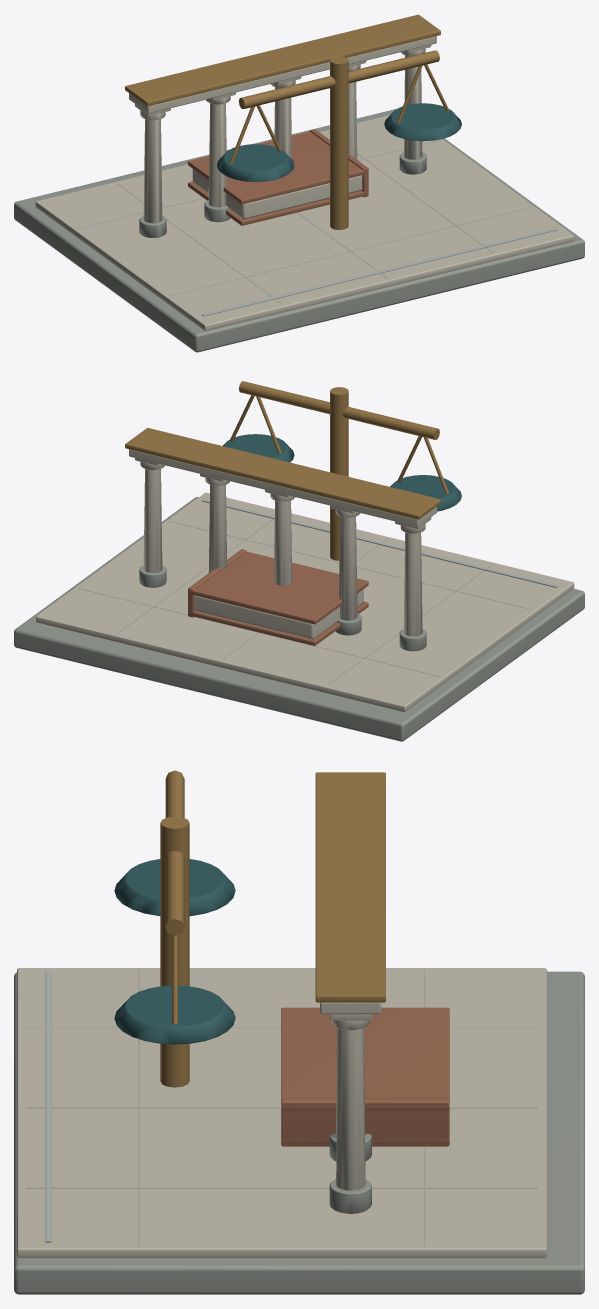
Rendered from idea-0dfcc8b7.glb.
The picture shows the model from 3 angles, top to bottom: view 1: azimuth 30°, elevation 25°; view 2: azimuth 150°, elevation 25°; view 3: azimuth 270°, elevation 25°; orthographic projection. The views are drawn at different scales.
Visible parts, largest first — view 1: Karmic Legal OS; view 2: Karmic Legal OS; view 3: Karmic Legal OS.
Boxes of the visible parts, x1=… form: Karmic Legal OS: x1=14, y1=14, x2=584, y2=352; Karmic Legal OS: x1=14, y1=381, x2=584, y2=741; Karmic Legal OS: x1=14, y1=770, x2=584, y2=1294.
Bounding box in the file's own units: 4.8 × 2.45 × 3.9.
